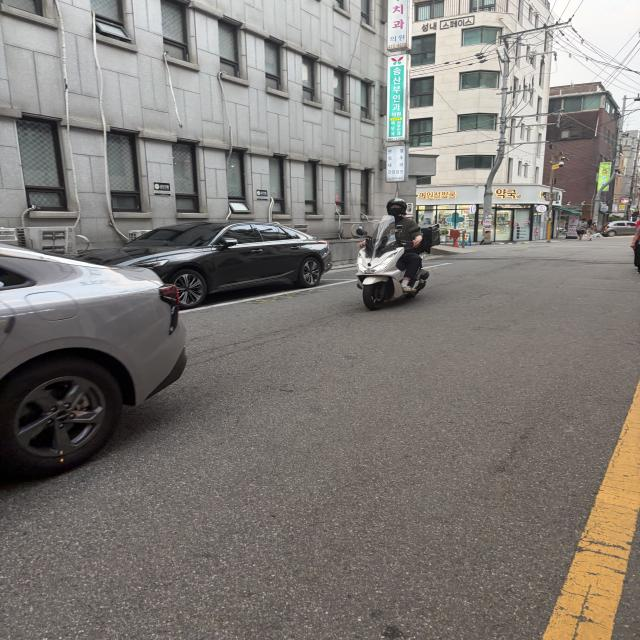car: (46, 212, 346, 314)
motorcycle: (342, 185, 445, 321)
